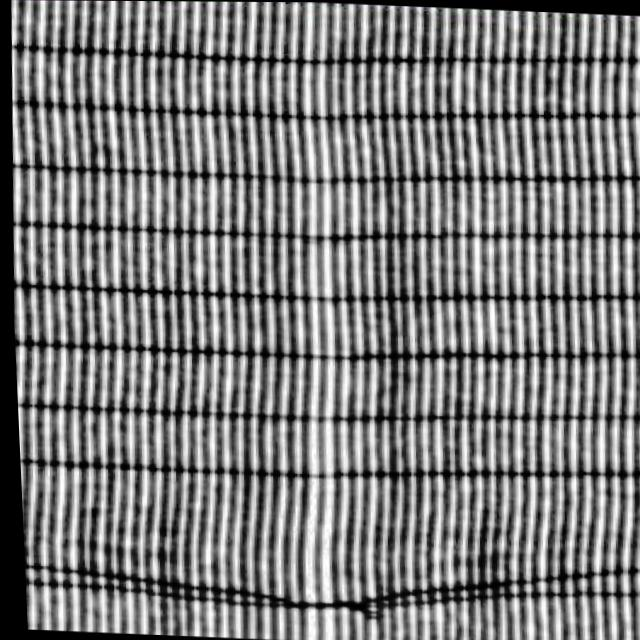Stitch: (103, 533, 511, 640)
